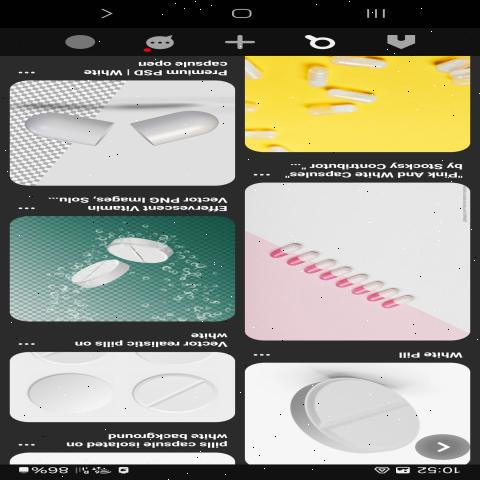Pill: (262, 368, 434, 459), (120, 362, 220, 418), (15, 363, 116, 417), (50, 255, 136, 297), (97, 229, 173, 268), (320, 85, 382, 106)
